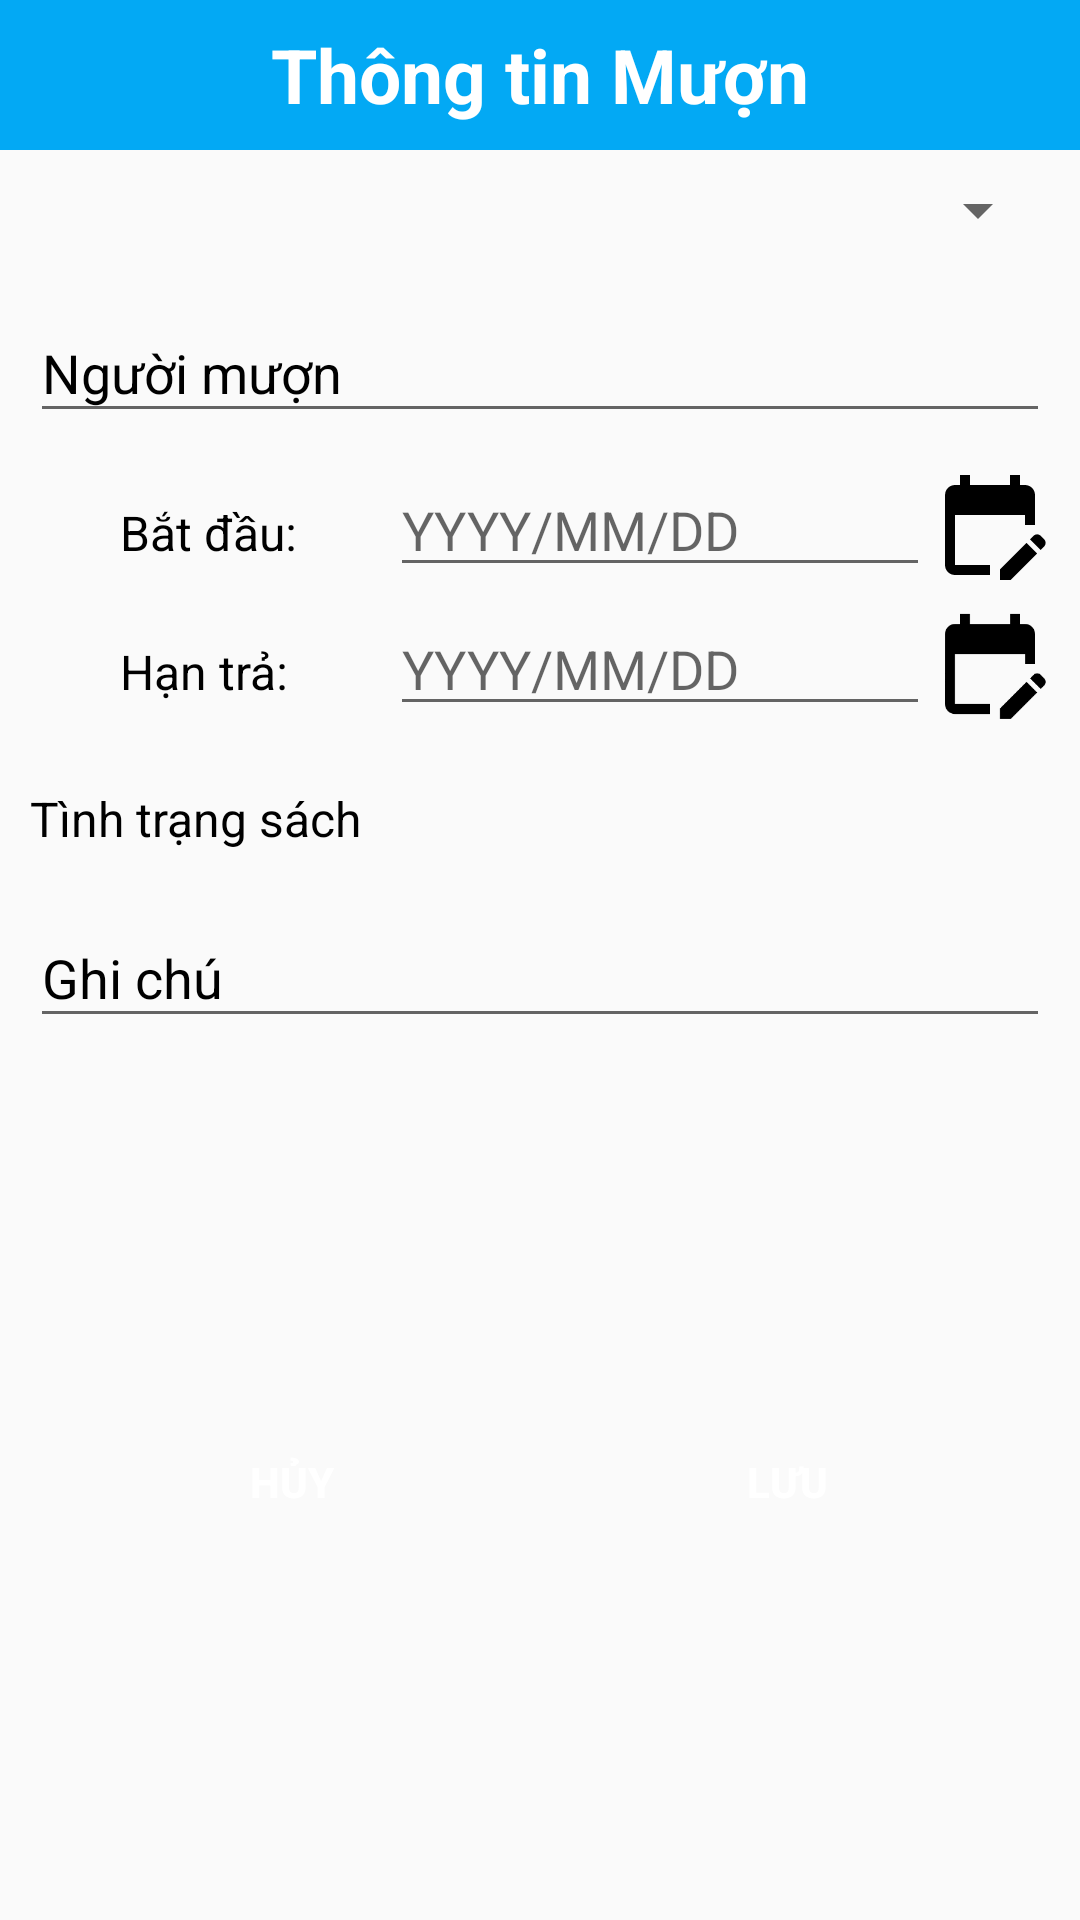

Icons on this 1080*1920 Android screen, each with the point to tap as [x,y]:
lich: [995,527], [995,666]
